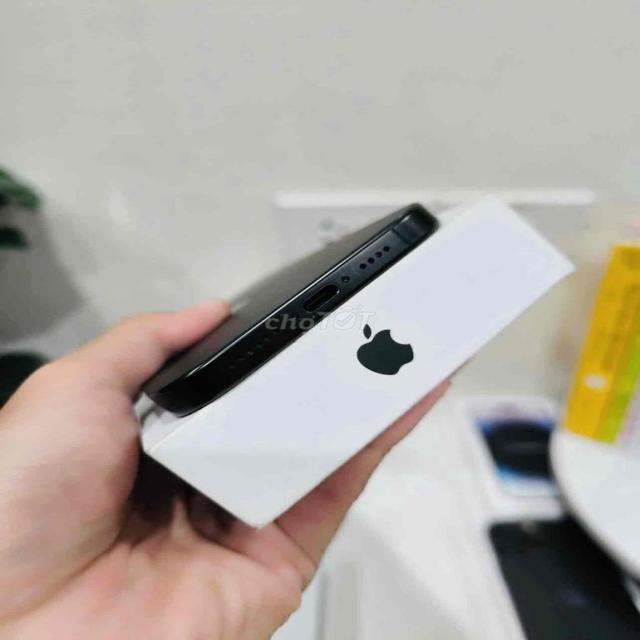gen_16: (125, 198, 444, 415)
